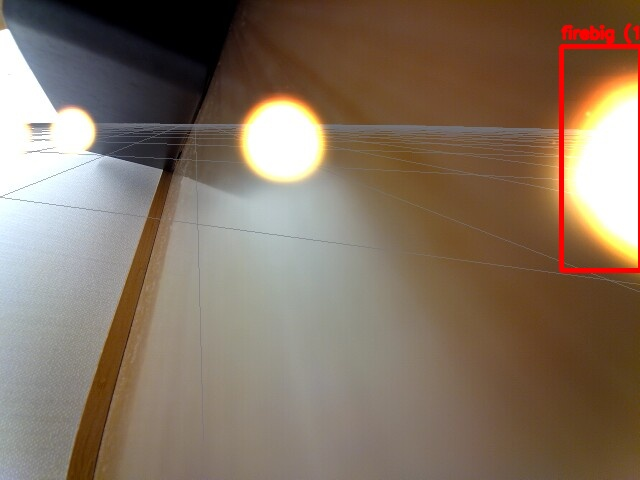firebig: (561, 46, 640, 270)
